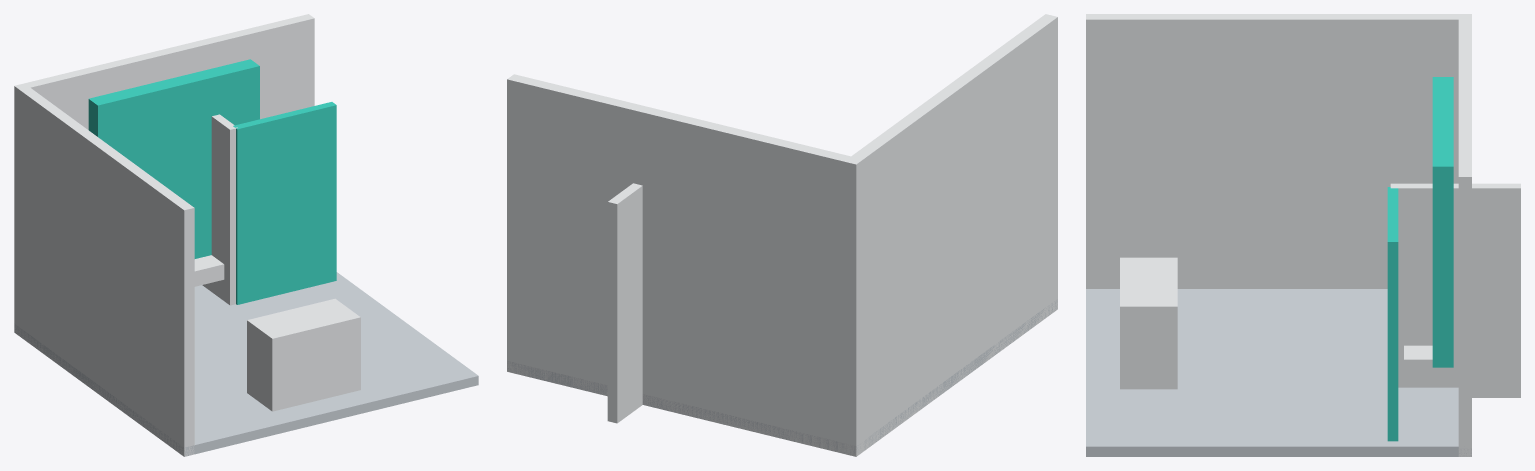
3 views of the same model, side by side, from view 1: azimuth 30°, elevation 25°; view 2: azimuth 150°, elevation 25°; view 3: azimuth 270°, elevation 25° (orthographic). The views are drawn at different scales.
Parts seen in each view (by area): view 1: Exhibition Booth Concept; view 2: Exhibition Booth Concept; view 3: Exhibition Booth Concept.
Boxes of the visible parts, <box> form: Exhibition Booth Concept: <box>14,14,478,456</box>; Exhibition Booth Concept: <box>507,14,1057,456</box>; Exhibition Booth Concept: <box>1086,14,1520,456</box>.
Bounding box in the file's own units: 4 × 3.2 × 4.51.
